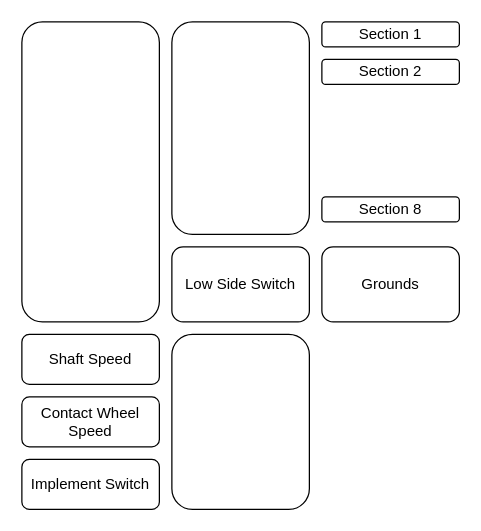
Some shapes in this 481 by 531 pixel diagram are drawn without their labels. Each missing label, with the centre of its shape:
High Side Switch: the point at 240,127
Opto Isolator: the point at 240,421
Section Control: the point at 90,171
